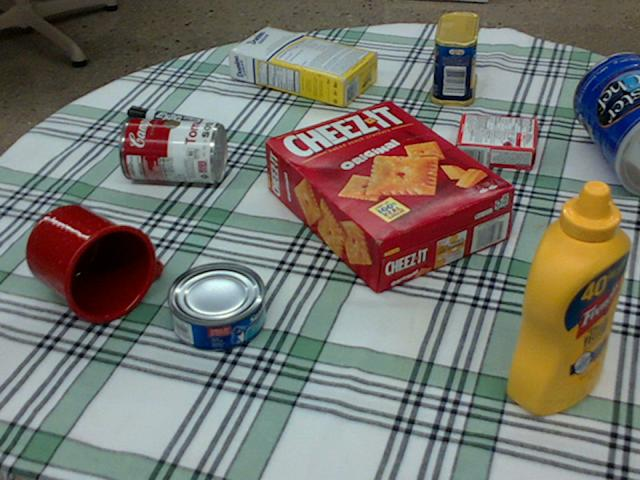cracker_box: (267, 99, 514, 290)
gelatin_box: (454, 114, 535, 167)
large_marker: (126, 106, 217, 135)
master_chef_can: (570, 53, 639, 194)
mug: (24, 204, 158, 322)
mustard_bottle: (507, 178, 631, 413)
potted_meat_can: (429, 11, 478, 105)
sugar_box: (228, 26, 379, 106)
tomato_soup_can: (118, 116, 226, 181)
tuna_fish_can: (164, 261, 264, 351)
